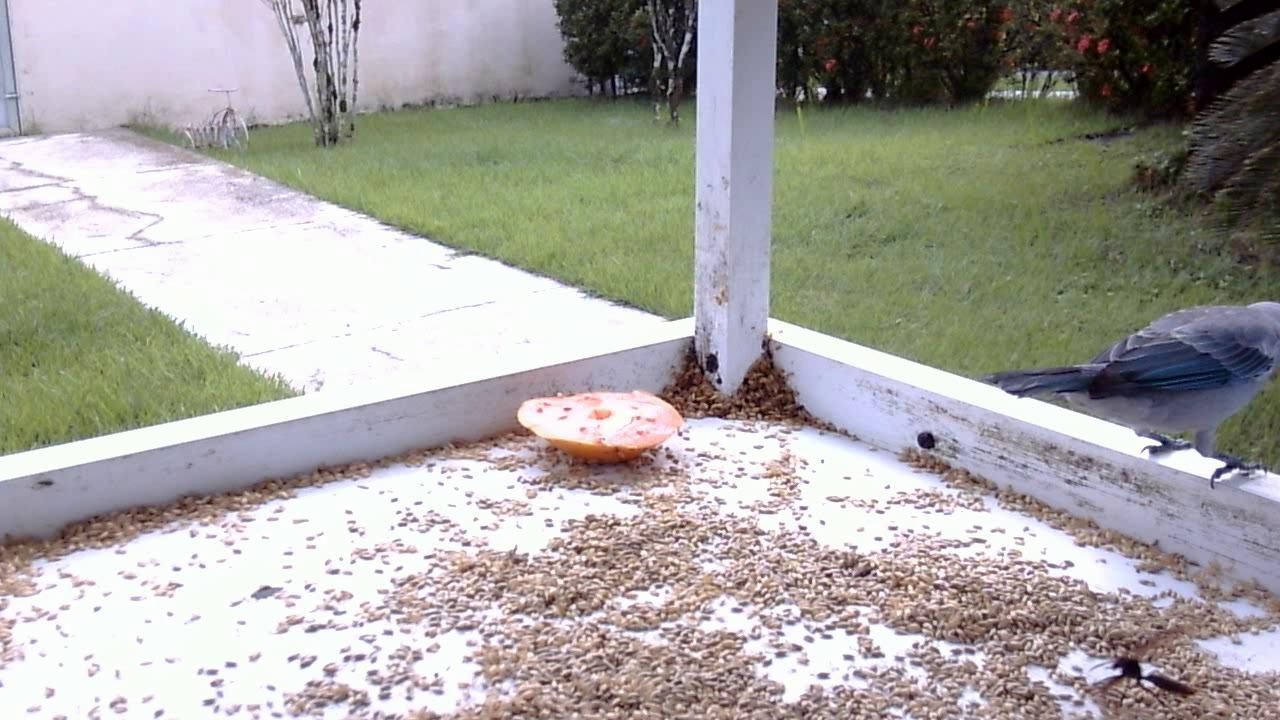sanhaco_da_amazonia: (978, 291, 1280, 491)
